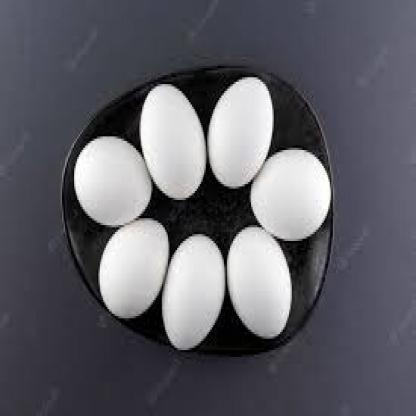egg: (140, 82, 208, 200), (162, 231, 226, 350), (251, 149, 332, 243), (228, 226, 294, 341), (100, 218, 171, 322), (209, 76, 274, 188), (75, 134, 152, 228)
